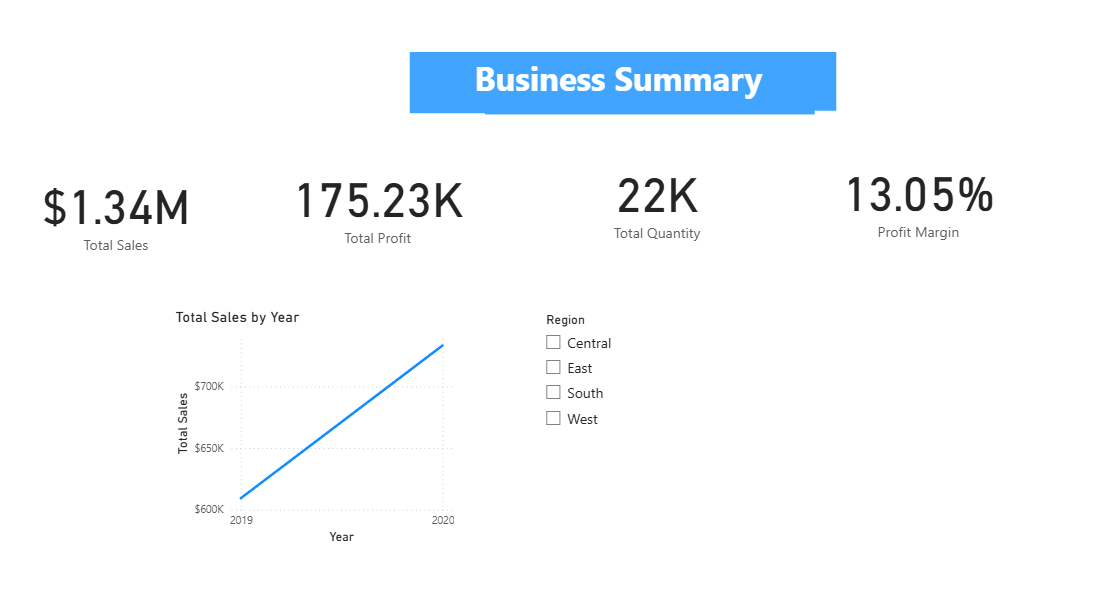

What the dashboard file says about the page in this screenshot:
{"tool":"powerbi","page":{"name":"Page 1","canvas":[1280,720],"ordinal":0},"visuals":[{"type":"textbox","box":[10,0,280,280],"z":0},{"type":"textbox","box":[471.8,68.4,486.1,71.3],"z":1000},{"type":"card","fields":{"Values":["retail_sales_data.Total Sales"]},"box":[10,138.3,253.7,222.4],"z":2000},{"type":"card","fields":{"Values":["retail_sales_data.Total Profit"]},"box":[313.6,138.3,243.7,206.7],"z":3000},{"type":"card","fields":{"Values":["retail_sales_data.Total Quantity"]},"box":[640,144,228.1,183.9],"z":4000},{"type":"card","fields":{"Values":["retail_sales_data.Profit Margin"]},"box":[933.6,135.4,236.6,199.6],"z":5000},{"type":"lineChart","fields":{"Category":["retail_sales_data.Order Date.Variation.Date Hierarchy.Year","retail_sales_data.Order Date.Variation.Date Hierarchy.Quarter","retail_sales_data.Order Date.Variation.Date Hierarchy.Month","retail_sales_data.Order Date.Variation.Date Hierarchy.Day"],"Y":["retail_sales_data.Total Sales"]},"box":[199.6,360.6,327.8,273.7],"z":6000},{"type":"slicer","fields":{"Values":["retail_sales_data.Region"]},"box":[614.3,360.6,343.5,273.7],"z":7000}]}

Visuals, with their boxes in screenshot pixels (x1, y1, x2, y2), scaled from the page's 1280x720 canvas onto the 1101x608 screenshot:
textbox: {"x1": 9, "y1": 0, "x2": 249, "y2": 236}
textbox: {"x1": 406, "y1": 58, "x2": 824, "y2": 118}
card - retail_sales_data.Total Sales: {"x1": 9, "y1": 117, "x2": 227, "y2": 305}
card - retail_sales_data.Total Profit: {"x1": 270, "y1": 117, "x2": 479, "y2": 291}
card - retail_sales_data.Total Quantity: {"x1": 550, "y1": 122, "x2": 747, "y2": 277}
card - retail_sales_data.Profit Margin: {"x1": 803, "y1": 114, "x2": 1007, "y2": 283}
lineChart - retail_sales_data.Order Date.Variation.Date Hierarchy.Year x retail_sales_data.Order Date.Variation.Date Hierarchy.Quarter: {"x1": 172, "y1": 305, "x2": 454, "y2": 536}
slicer - retail_sales_data.Region: {"x1": 528, "y1": 305, "x2": 824, "y2": 536}
